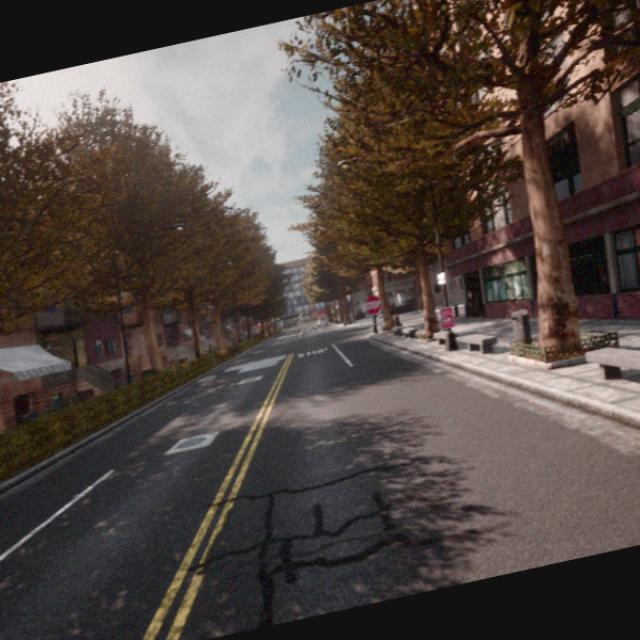stop sign: (363, 293, 383, 316)
